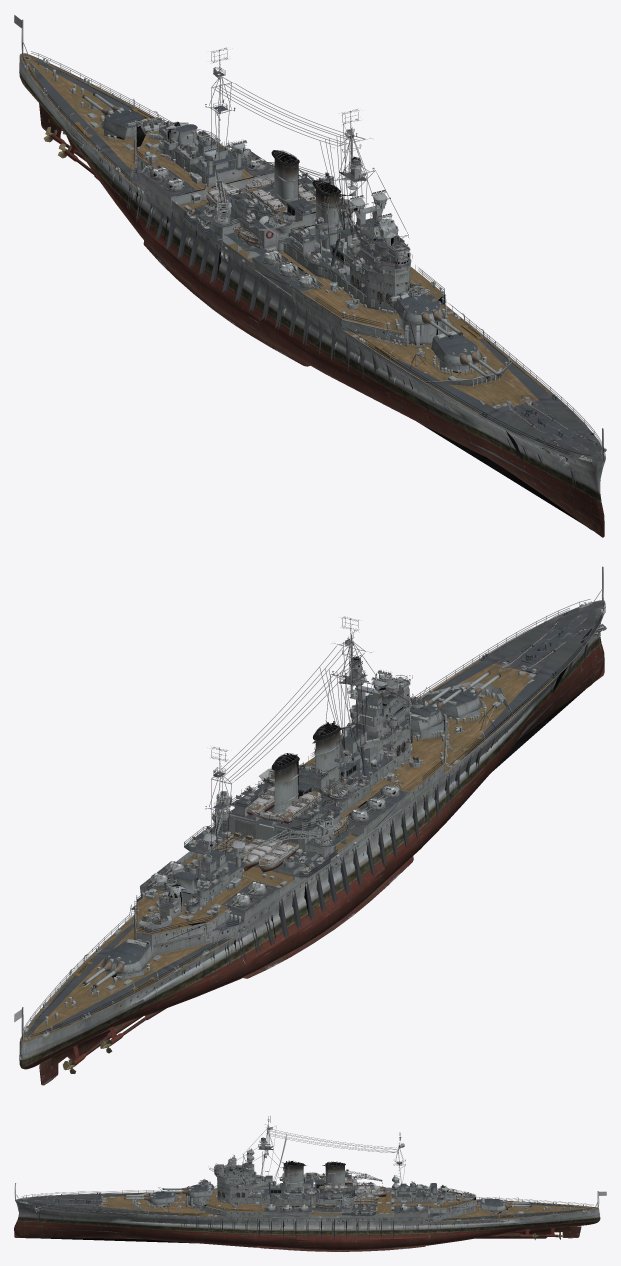
File: hms_renown_war_thunder-maximum-compressed.glb
3 views of the same model, one above another, from view 1: azimuth 30°, elevation 25°; view 2: azimuth 150°, elevation 25°; view 3: azimuth 270°, elevation 25° (orthographic). The views are drawn at different scales.
Parts seen in each view (by area): view 1: Object_92, Object_107, Object_4, Object_121, Object_11, Object_94, Object_26, Object_40, Object_32, Object_38, Object_130, Object_41 (+14 smaller); view 2: Object_92, Object_107, Object_4, Object_121, Object_11, Object_38, Object_94, Object_26, Object_32, Object_39, Object_40, Object_41 (+15 smaller); view 3: Object_92, Object_107, Object_121, Object_26, Object_4, Object_11, Object_32, Object_94, Object_38, Object_40, Object_130, Object_46 (+16 smaller).
Boxes of the visible parts, <box> form: Object_92: <box>21,81,604,537</box>; Object_107: <box>19,53,605,493</box>; Object_4: <box>25,56,598,489</box>; Object_121: <box>101,72,605,462</box>; Object_11: <box>20,53,552,414</box>; Object_94: <box>73,108,483,360</box>; Object_26: <box>19,72,601,501</box>; Object_40: <box>259,180,353,278</box>; Object_32: <box>328,231,411,314</box>; Object_38: <box>172,156,315,267</box>; Object_130: <box>22,51,601,455</box>; Object_41: <box>156,122,245,186</box>; Object_92: <box>21,643,604,1085</box>; Object_107: <box>19,600,605,1059</box>; Object_4: <box>25,605,598,1039</box>; Object_121: <box>101,601,605,974</box>; Object_11: <box>20,660,553,1041</box>; Object_38: <box>176,754,363,897</box>; Object_94: <box>73,732,483,991</box>; Object_26: <box>19,637,601,1066</box>; Object_32: <box>339,696,412,787</box>; Object_39: <box>128,861,279,956</box>; Object_40: <box>259,721,371,815</box>; Object_41: <box>156,846,245,918</box>; Object_92: <box>14,1197,598,1251</box>; Object_107: <box>15,1170,599,1230</box>; Object_121: <box>15,1145,507,1216</box>; Object_26: <box>17,1217,600,1234</box>; Object_4: <box>22,1193,593,1238</box>; Object_11: <box>102,1192,598,1221</box>; Object_32: <box>216,1171,276,1204</box>; Object_94: <box>180,1188,516,1217</box>; Object_38: <box>311,1163,394,1217</box>; Object_40: <box>268,1162,319,1205</box>; Object_130: <box>22,1170,593,1220</box>; Object_46: <box>30,1185,594,1225</box>.
Bounding box in the file's own units: 30.68 × 55.94 × 245.
42 materials, 42 textured.
